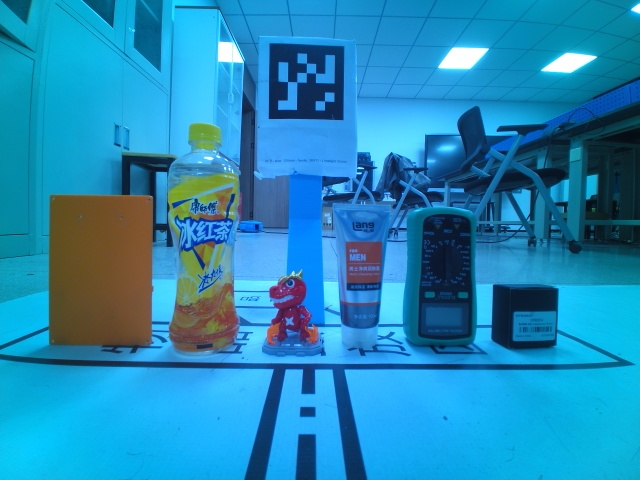banzi: (490, 283, 559, 349)
binghongcha: (261, 267, 324, 359)
dabao: (330, 201, 390, 350)
dianbiao: (167, 122, 241, 355)
hezi: (402, 206, 479, 348)
long: (48, 194, 153, 347)
